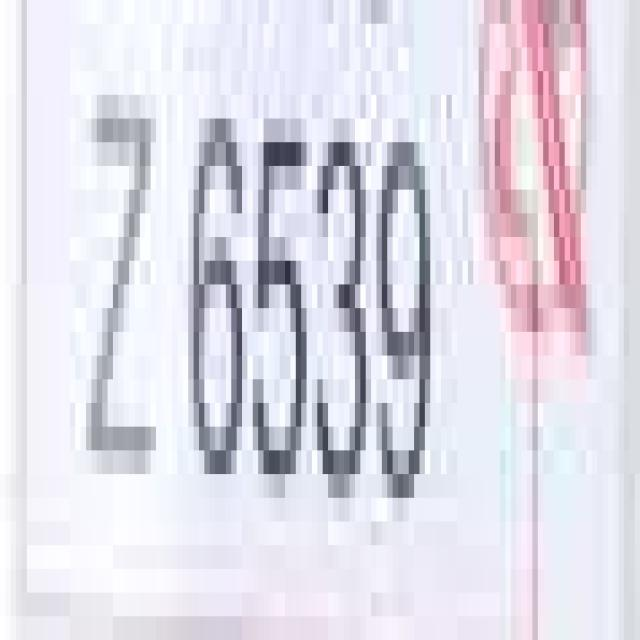plate: (21, 23, 640, 640)
